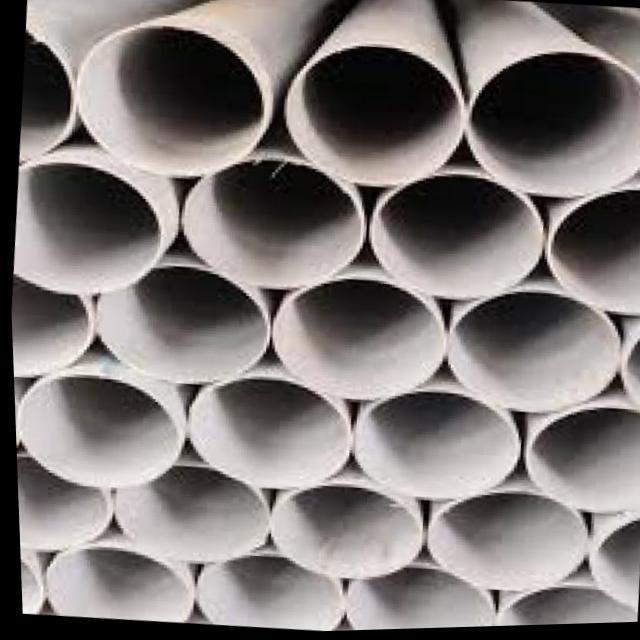pipe: (72, 24, 263, 178), (283, 45, 465, 189), (467, 54, 640, 197), (179, 162, 364, 290), (445, 292, 617, 420), (91, 264, 266, 387), (373, 175, 540, 301), (268, 281, 439, 401), (13, 161, 157, 296), (187, 376, 346, 490), (354, 391, 516, 502), (18, 375, 174, 490), (423, 495, 580, 593), (107, 468, 267, 563), (266, 484, 420, 580), (522, 410, 640, 516), (190, 555, 340, 633), (548, 192, 640, 319), (38, 546, 185, 623), (341, 568, 489, 632), (13, 455, 102, 552), (9, 276, 88, 376), (492, 588, 630, 629)
